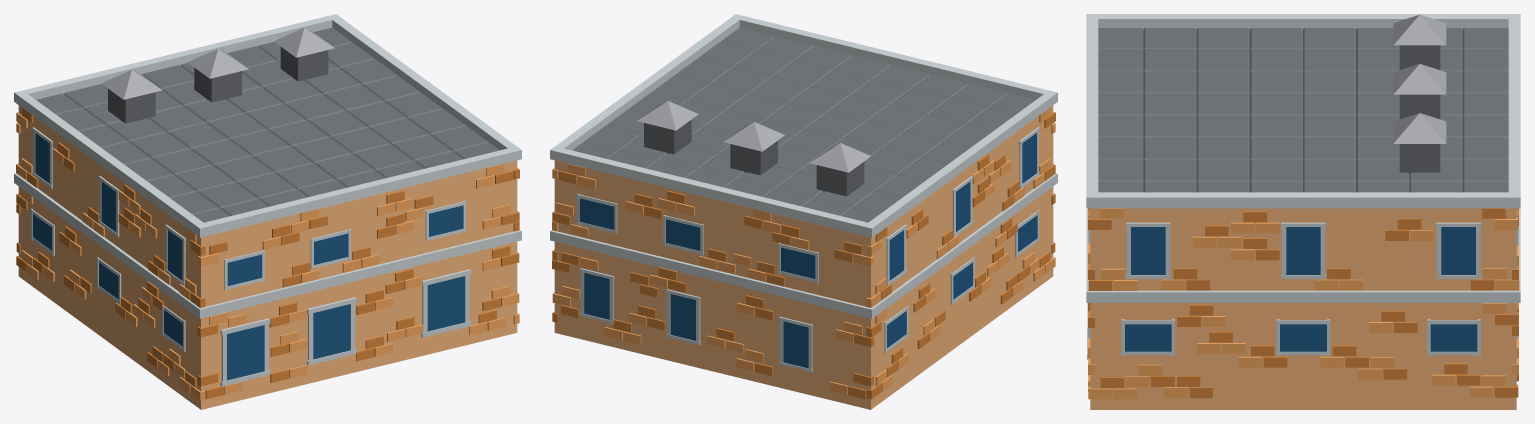
The model's file is SM_House_15_B.FBX.
3 views of the same model, side by side, from view 1: azimuth 30°, elevation 25°; view 2: azimuth 150°, elevation 25°; view 3: azimuth 270°, elevation 25° (orthographic). The views are drawn at different scales.
Visible parts, largest first — view 1: SM_House_15_B; view 2: SM_House_15_B; view 3: SM_House_15_B.
Part boxes in pixels (left/top/right/bottom): SM_House_15_B: left=14, top=14, right=521, bottom=409; SM_House_15_B: left=550, top=14, right=1057, bottom=409; SM_House_15_B: left=1086, top=14, right=1520, bottom=409.
Size of what is drawn, in the model's own units: 952 by 952 by 619.
